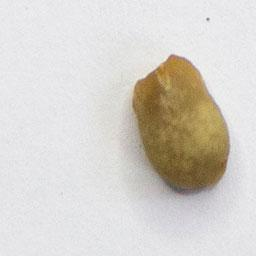defect: (129, 52, 235, 193)
